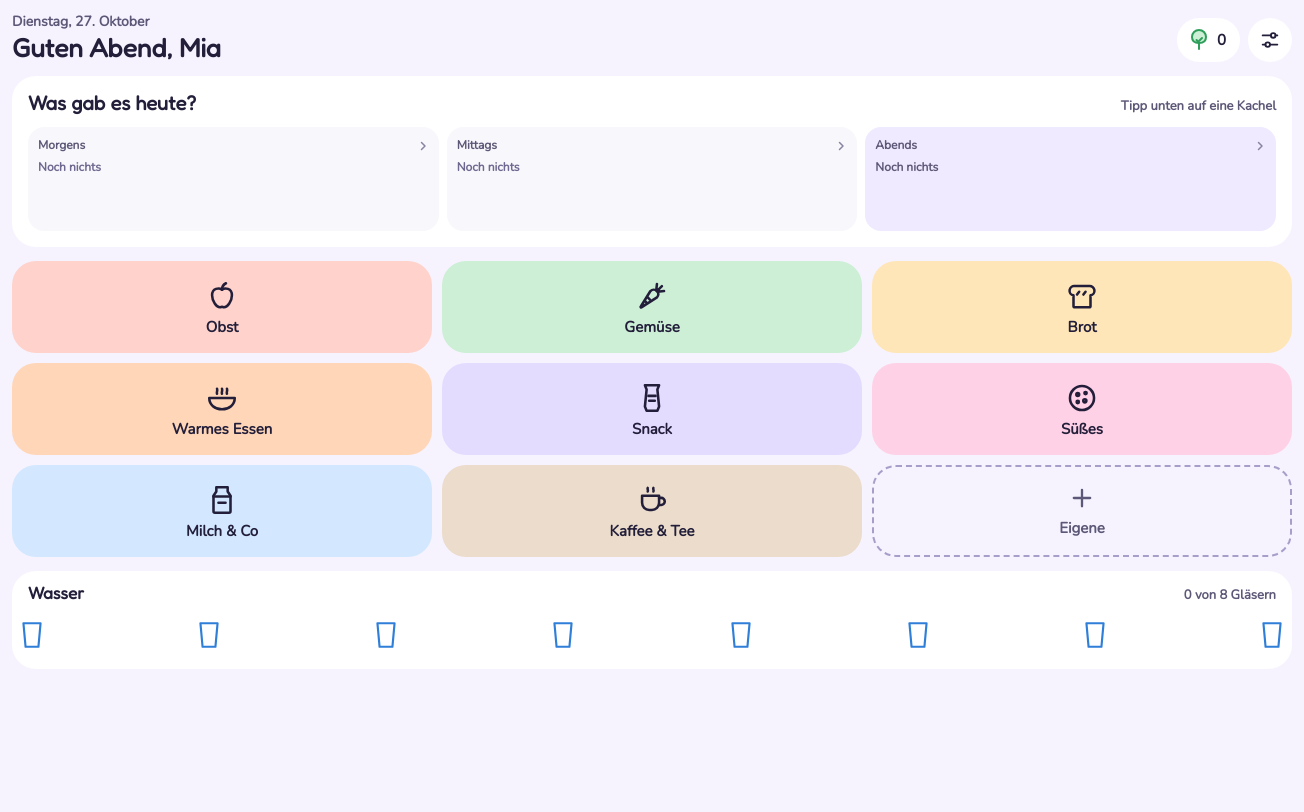
it: TodayView › quick mode: tapping a tile adds an entry and shows the toast
Click the button "Obst": (222, 307) [12,261,432,353]
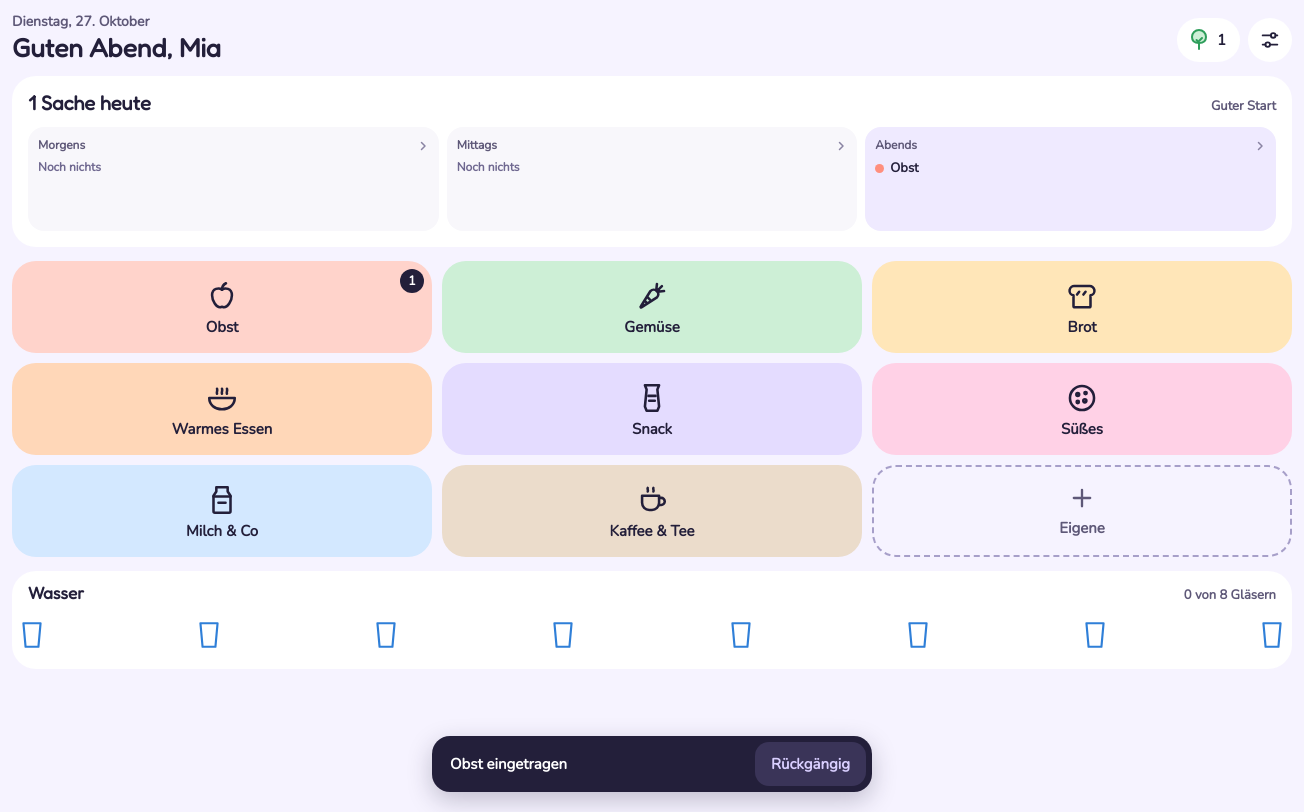
Expected: the text with class "toast__text" reads "Obst eingetragen", [450,754,567,774]
Expected: the text "1 Sache heute" is shown, [28,92,151,115]
